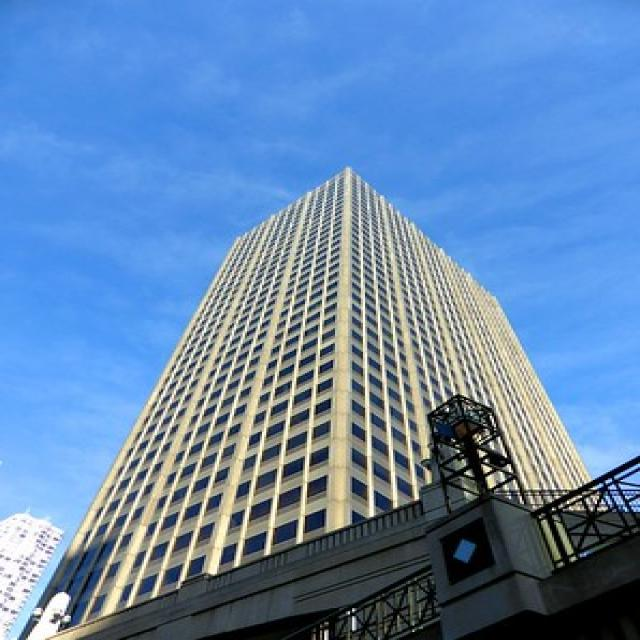Normal_building: (42, 162, 613, 630)
